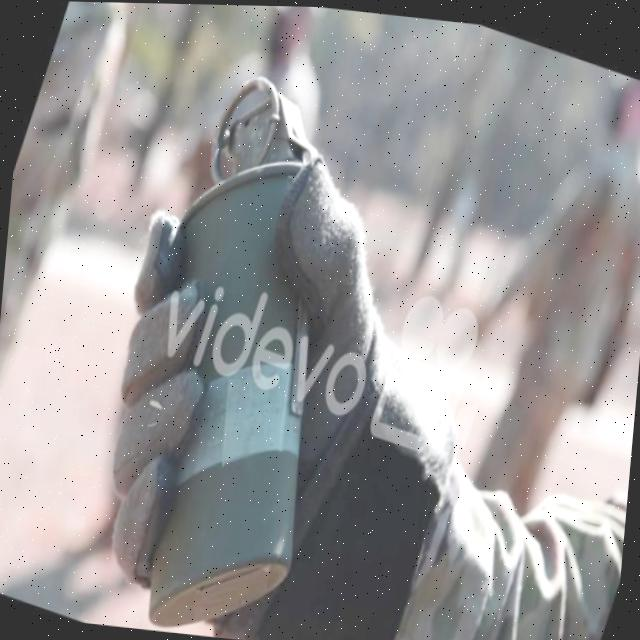grenade: (40, 41, 431, 640)
